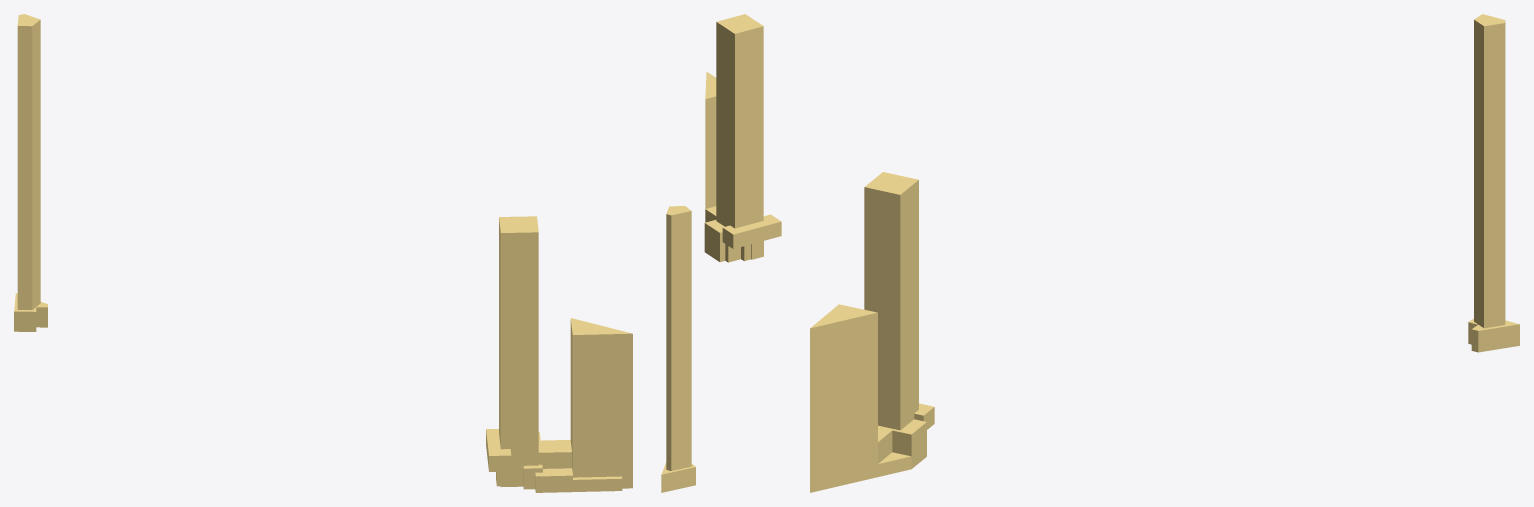
The model's file is BK_Future.obj.
3 renders of one model, left to right at view 1: azimuth 30°, elevation 25°; view 2: azimuth 150°, elevation 25°; view 3: azimuth 270°, elevation 25°, orthographic. The views are drawn at different scales.
Bounding box in the file's own units: 1050 × 1006 × 2000.
